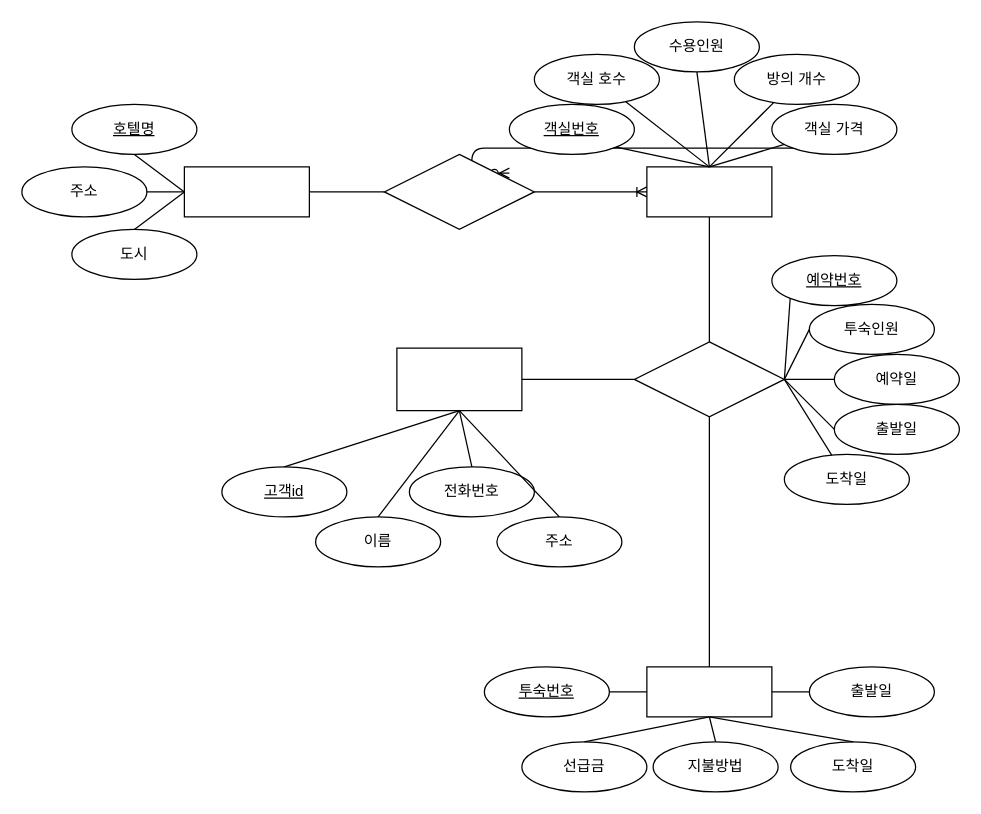
This 981x814 diagram has some shape labels left out. The shapes that lost their labels are listed below. From the top down, each one's centre as x and y in pixels, then its label:
At point 246,191: "호텔".
At point 458,191: "보유".
At point 709,191: "객실".
At point 459,379: "고객".
At point 708,379: "예약".
At point 709,691: "투숙".
